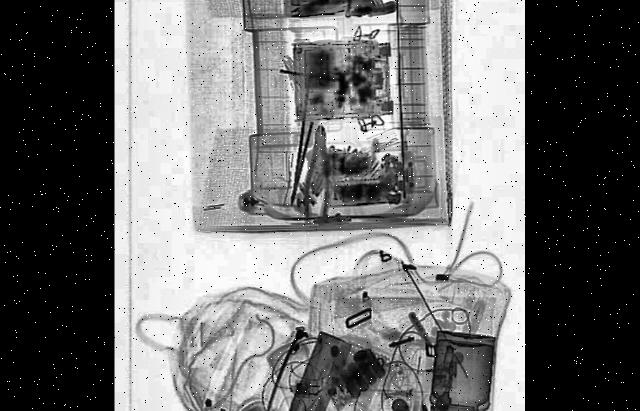Pliers: (303, 122, 332, 219)
